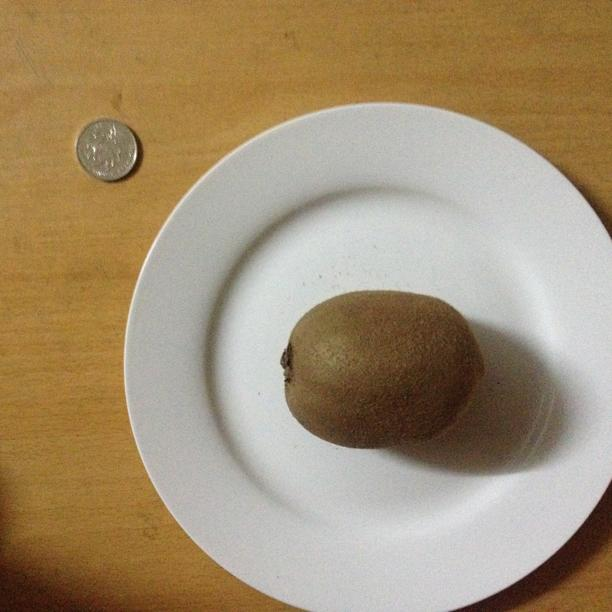coin: (74, 116, 143, 180)
qiwi: (281, 293, 484, 449)
